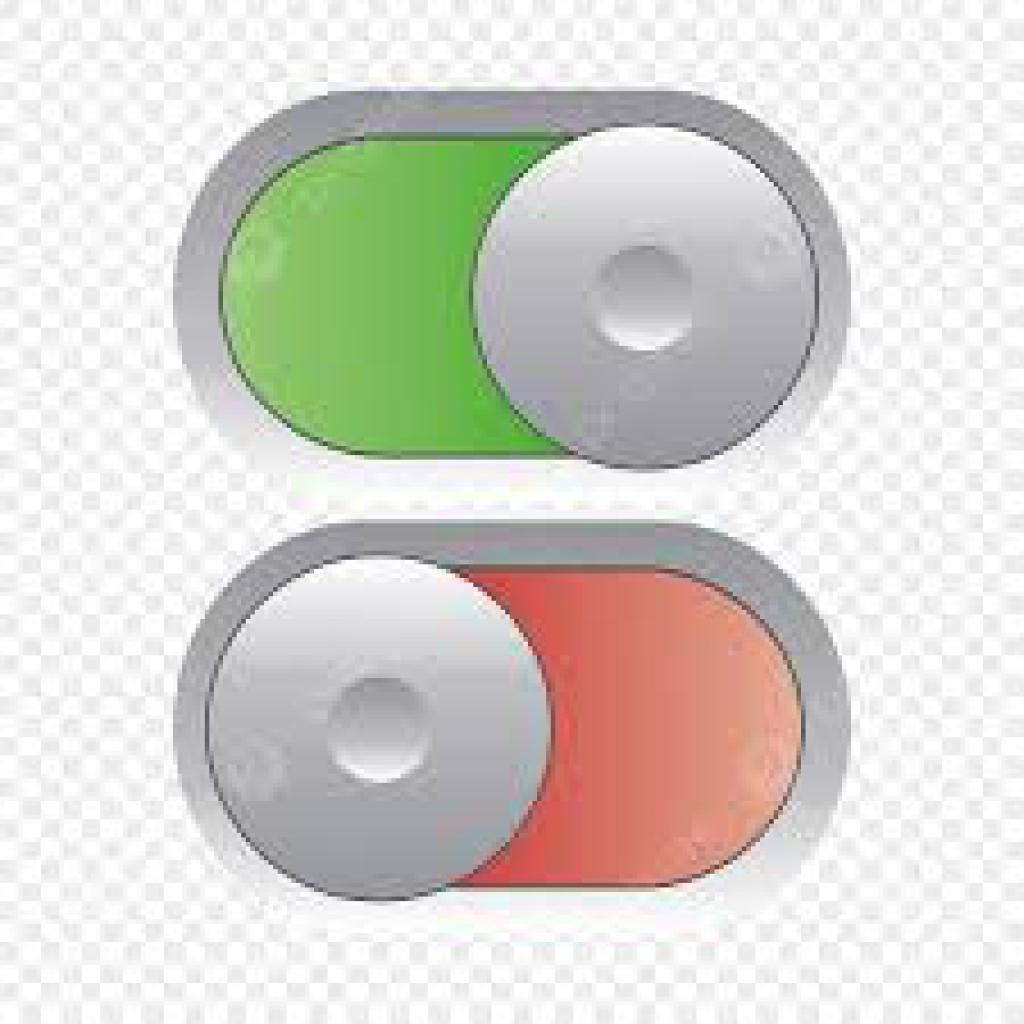switch: (170, 520, 855, 934), (177, 93, 852, 507)
